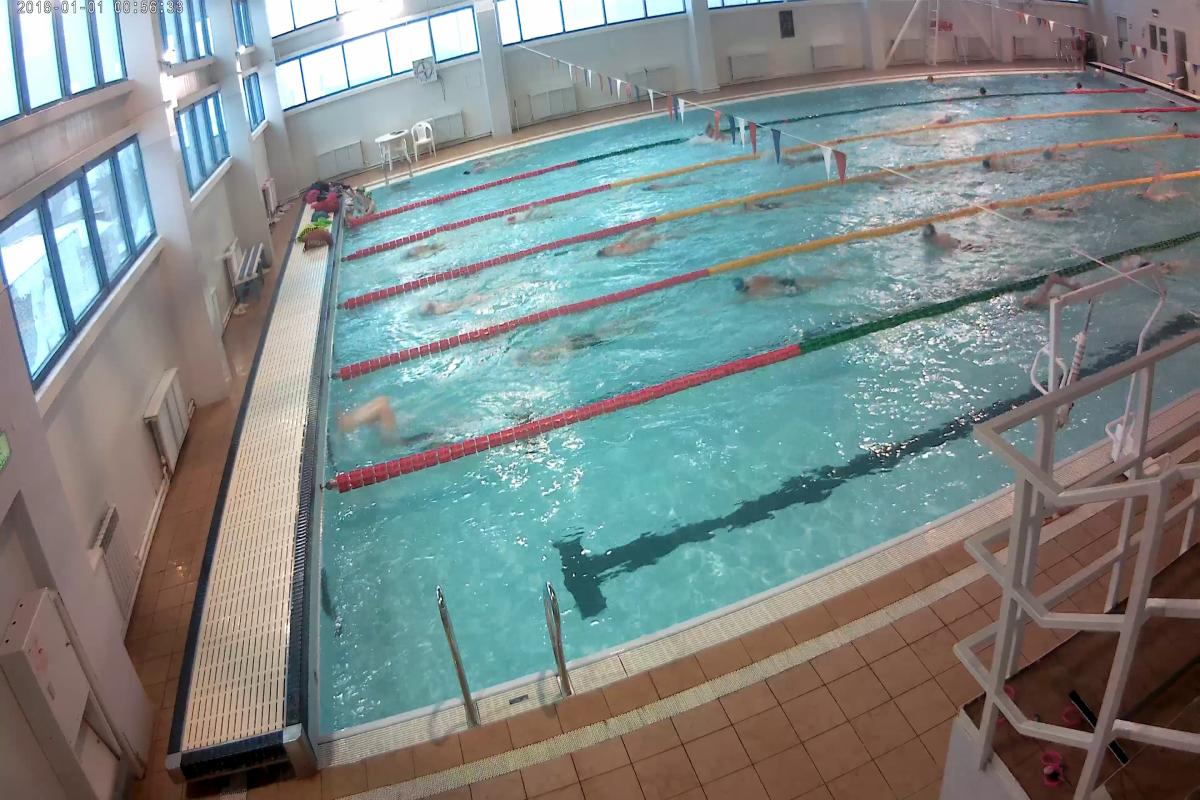swimmer: (522, 317, 643, 372), (339, 400, 435, 454), (724, 263, 839, 307), (408, 281, 500, 325), (598, 228, 676, 268), (1018, 270, 1074, 318), (907, 223, 974, 256), (976, 151, 1035, 179), (1021, 201, 1084, 226), (1137, 184, 1189, 206)
